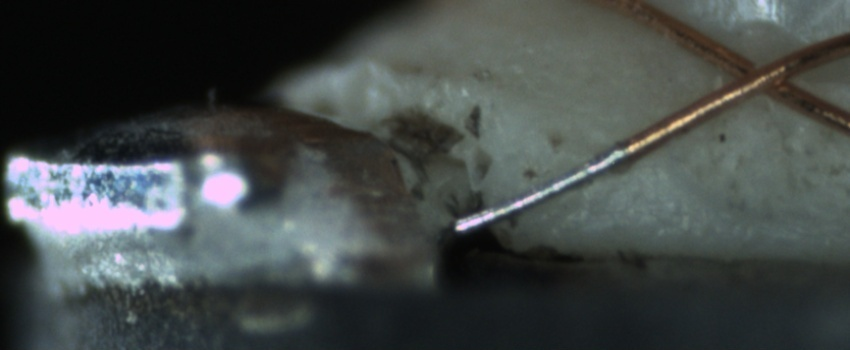CL: (704, 40, 814, 110)
TS: (451, 142, 630, 236)
